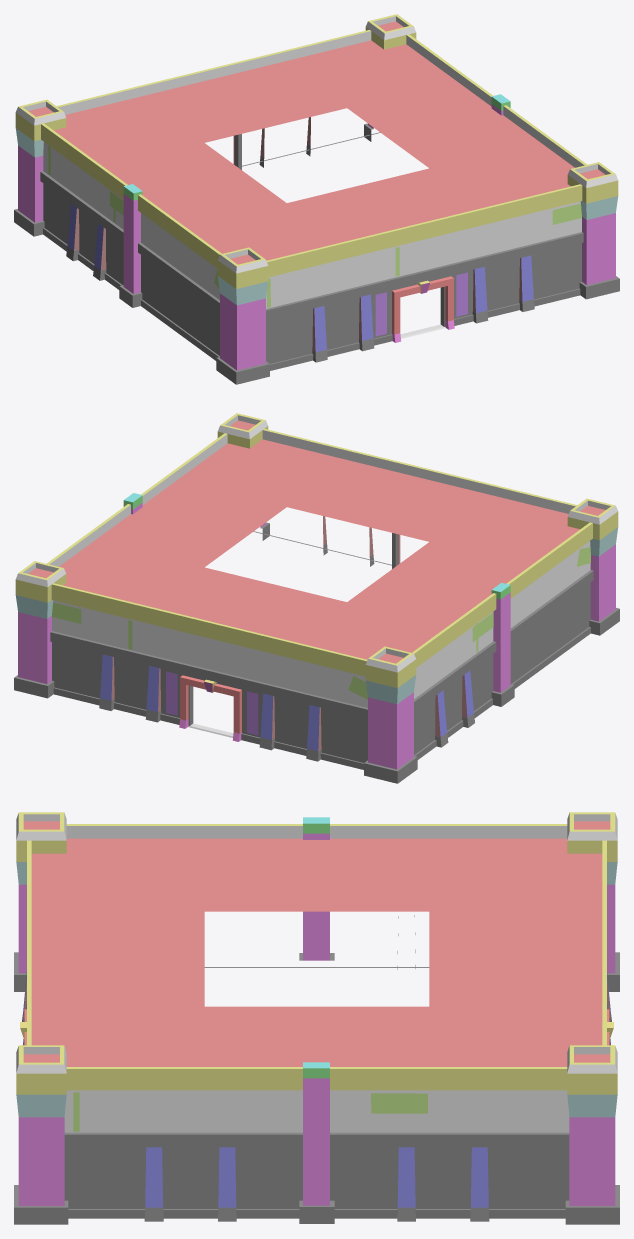
File: L2fortress_02_s__fort02_command_a.gltf
3 renders of one model, top to bottom at view 1: azimuth 30°, elevation 25°; view 2: azimuth 150°, elevation 25°; view 3: azimuth 270°, elevation 25°, orthographic. The views are drawn at different scales.
Parts seen in each view (by area): view 1: fort02_command_a; view 2: fort02_command_a; view 3: fort02_command_a.
Part boxes in pixels (<box>): fort02_command_a: <box>14,14,619,384</box>; fort02_command_a: <box>14,413,619,783</box>; fort02_command_a: <box>14,812,619,1224</box>.
Bounding box in the file's own units: 12.92 × 3.76 × 12.96.
